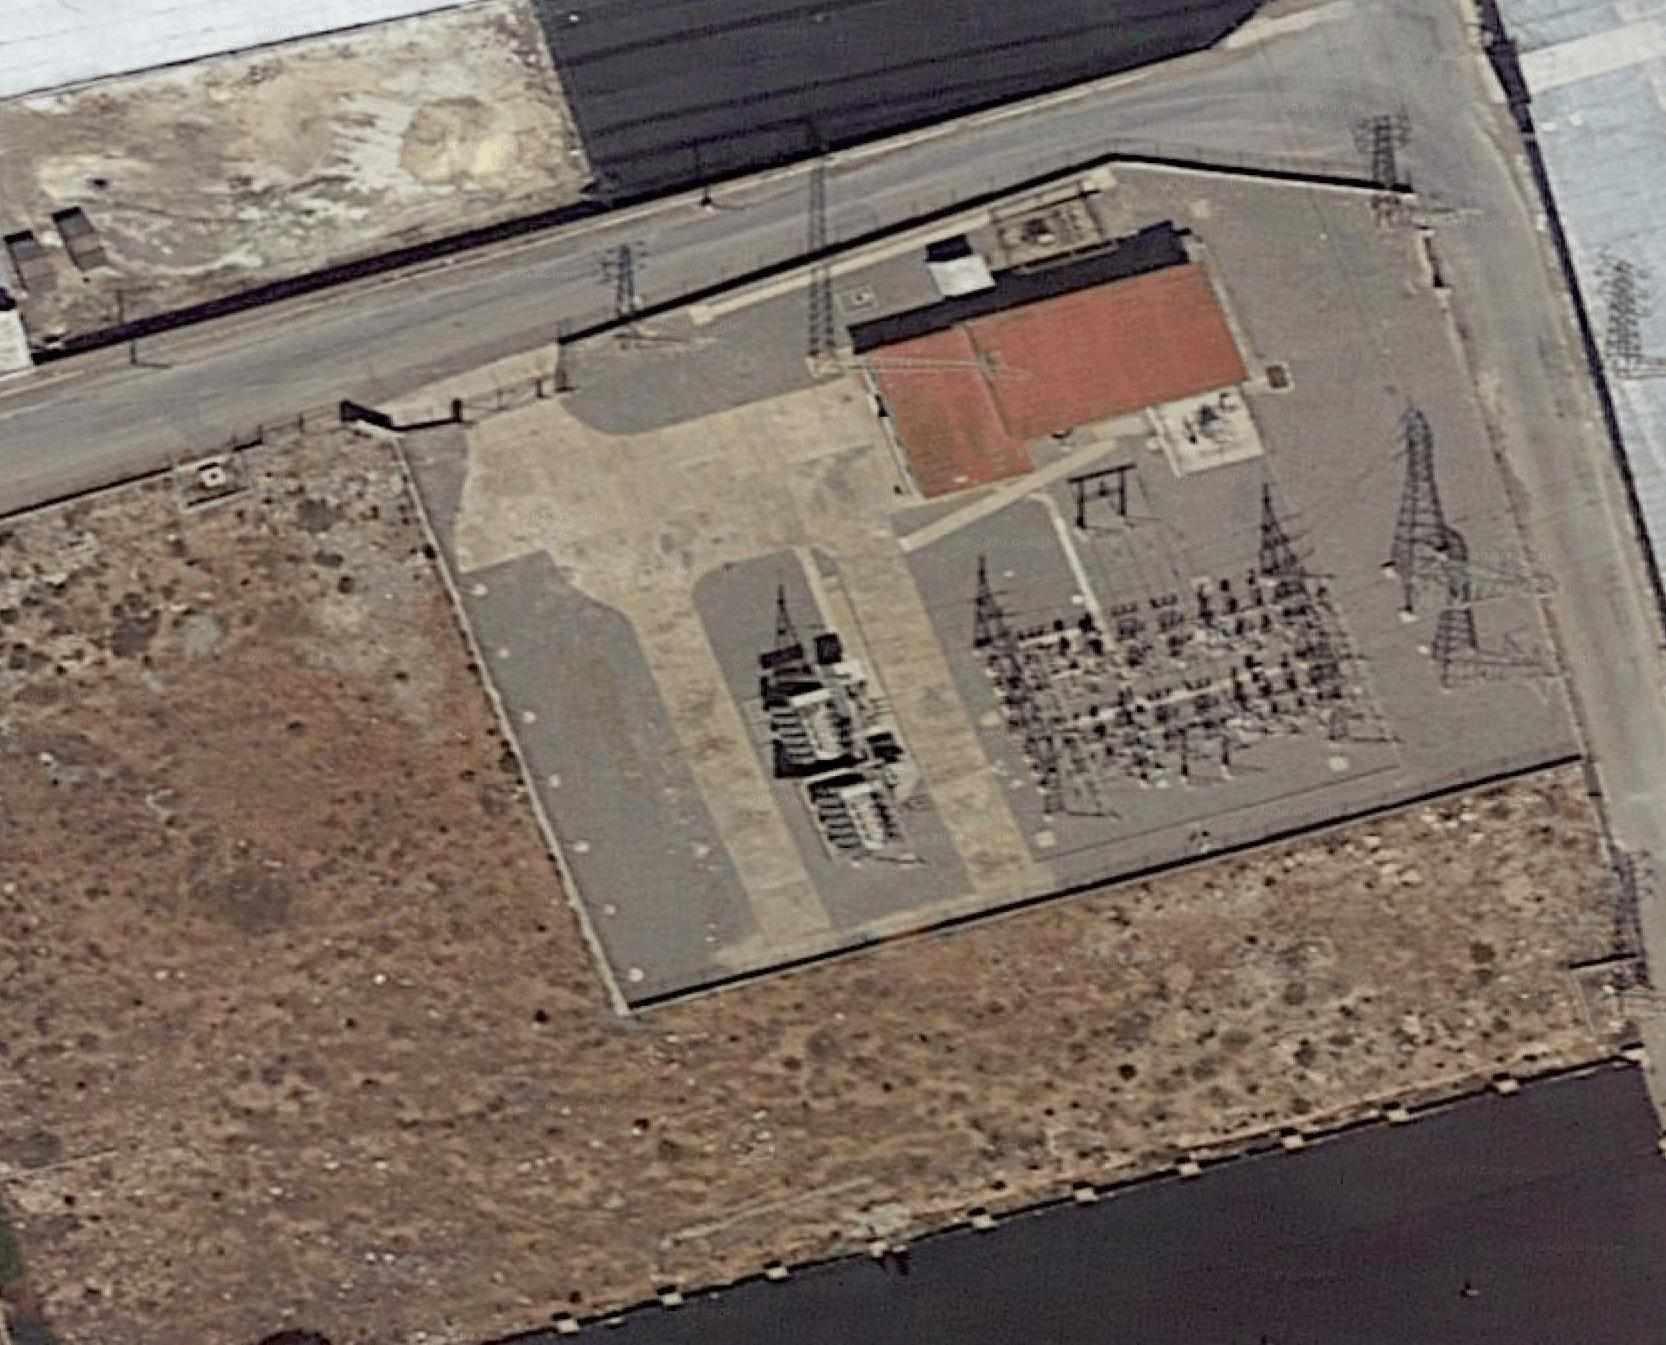substation: (745, 391, 1489, 872)
